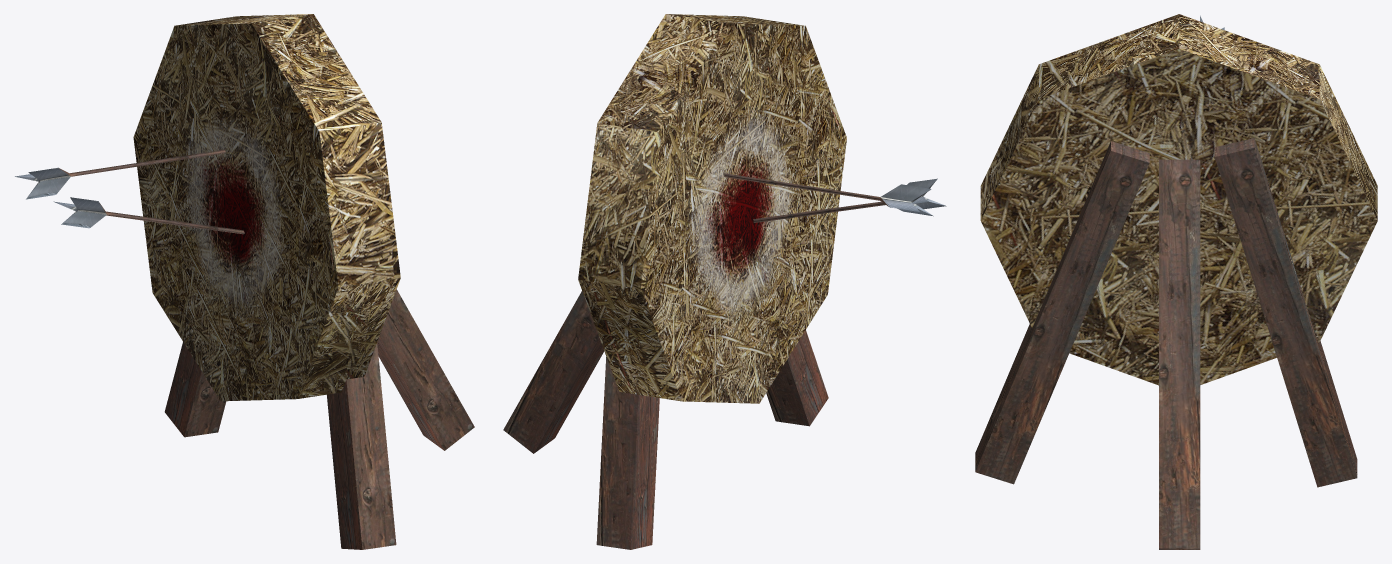
File: prop_archerytarget.FBX
The picture shows the model from 3 angles, left to right: view 1: azimuth 30°, elevation 25°; view 2: azimuth 150°, elevation 25°; view 3: azimuth 270°, elevation 25°; orthographic projection. The views are drawn at different scales.
Visible parts, largest first — view 1: archerytarget; view 2: archerytarget; view 3: archerytarget.
Boxes of the visible parts, x1,y1,x2,y2 form: archerytarget: [15, 14, 474, 549]; archerytarget: [503, 14, 946, 549]; archerytarget: [975, 14, 1377, 549].
Bounding box in the file's own units: 445 × 468 × 375.
